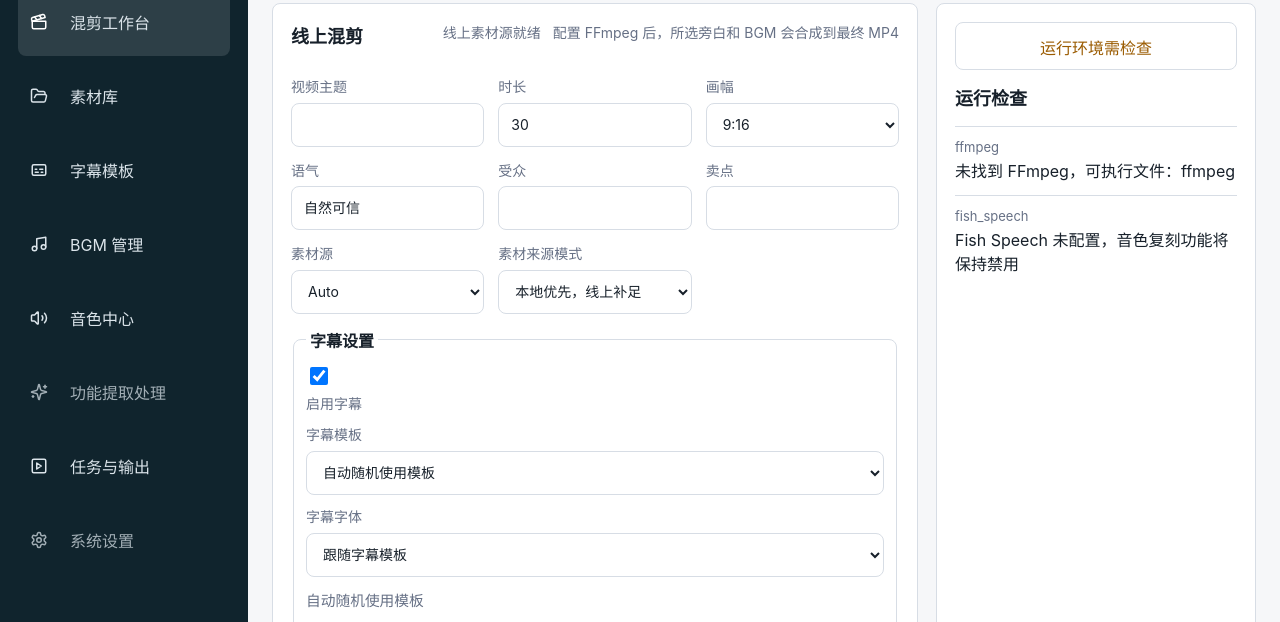
Test: AutoVideo shell › shows subtitle validation warnings near the editor
This screenshot has width=1280, height=622.
Click the link "字幕模板".
click(82, 171)  # box x1=30 y1=161 x2=134 y2=181
(page scrolled)
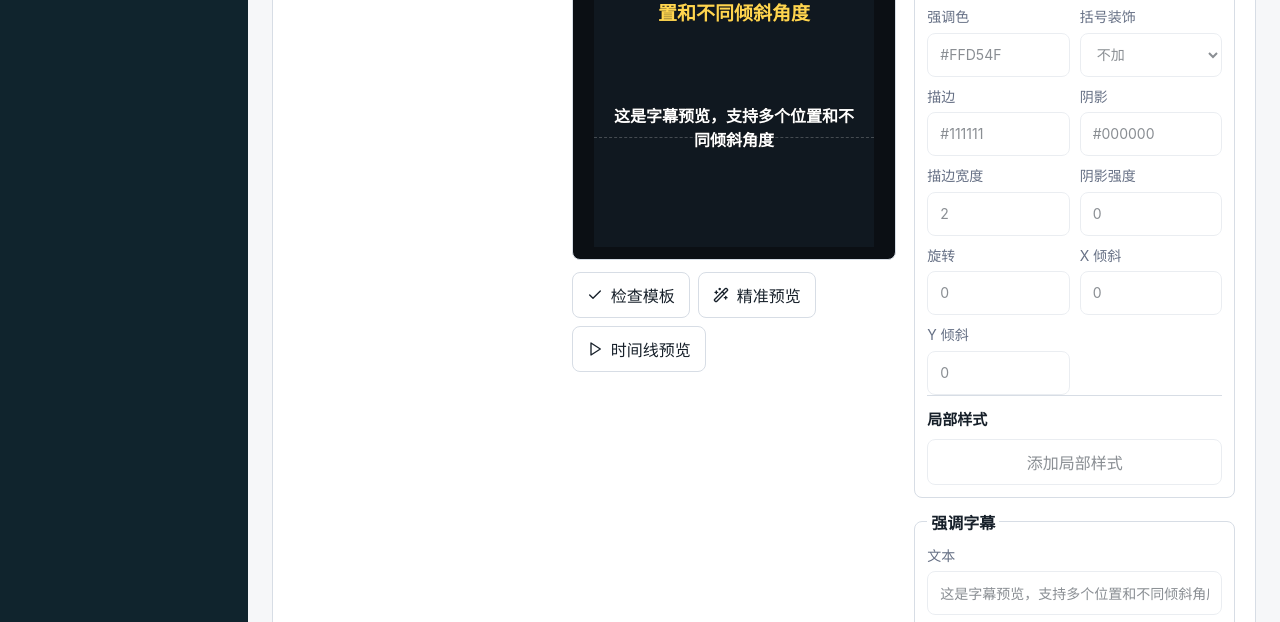
Click the button "检查模板".
click(631, 295)  # box x1=572 y1=272 x2=690 y2=318
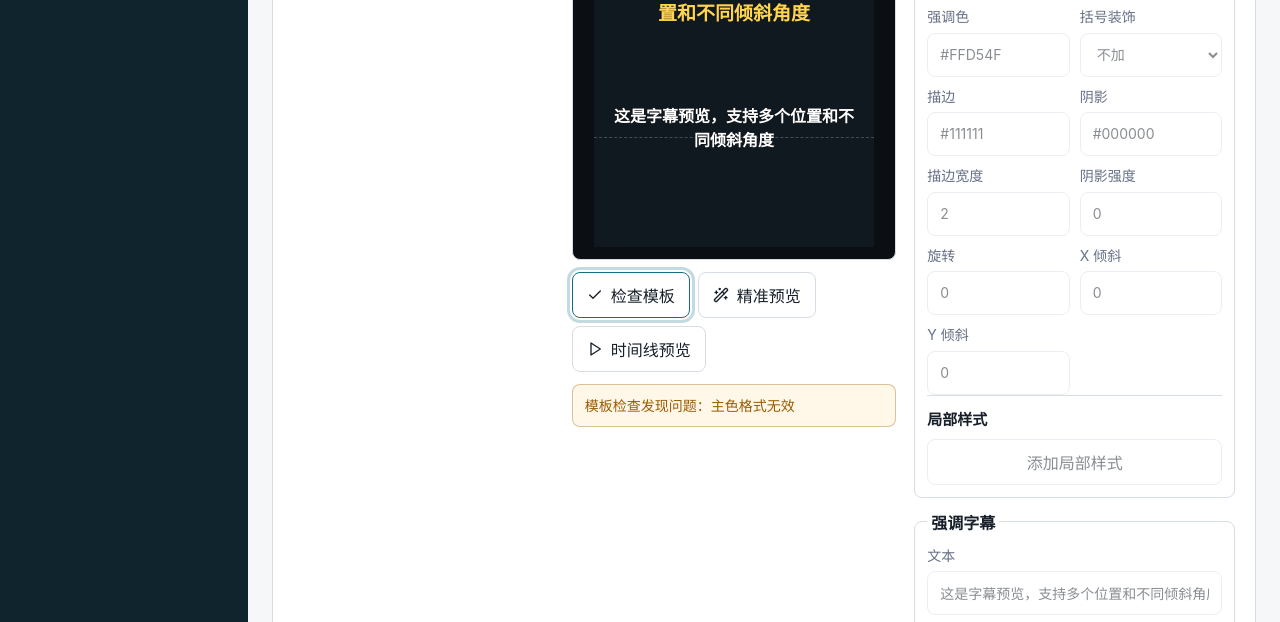
Expected: the message reads "模板检查发现问题：主色格式无效", x1=572 y1=384 x2=896 y2=427
